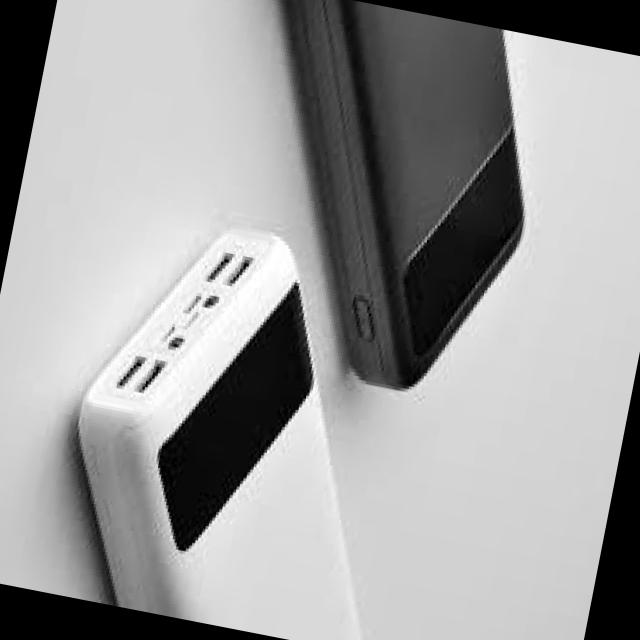portable-charger: (40, 208, 442, 640), (208, 0, 563, 406)
